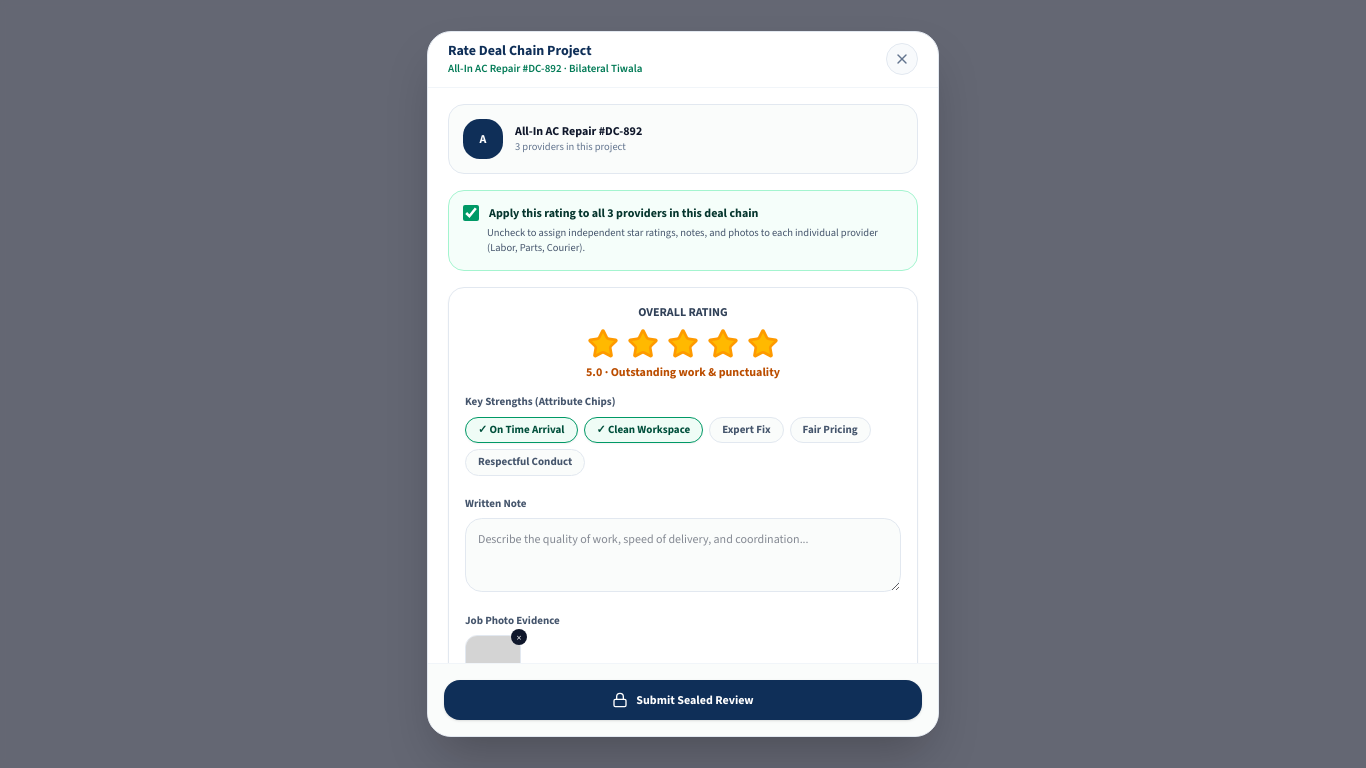
Test: ReviewCeremonyModal Component - Stages & AD-21 Cascading Flow › reveals per-provider custom review cards when cascading toggle is unchecked
The width and height of the screenshot is (1366, 768).
Click the checkbox with test id "cascading-toggle". click: x=471, y=213
box: [463,205,479,221]
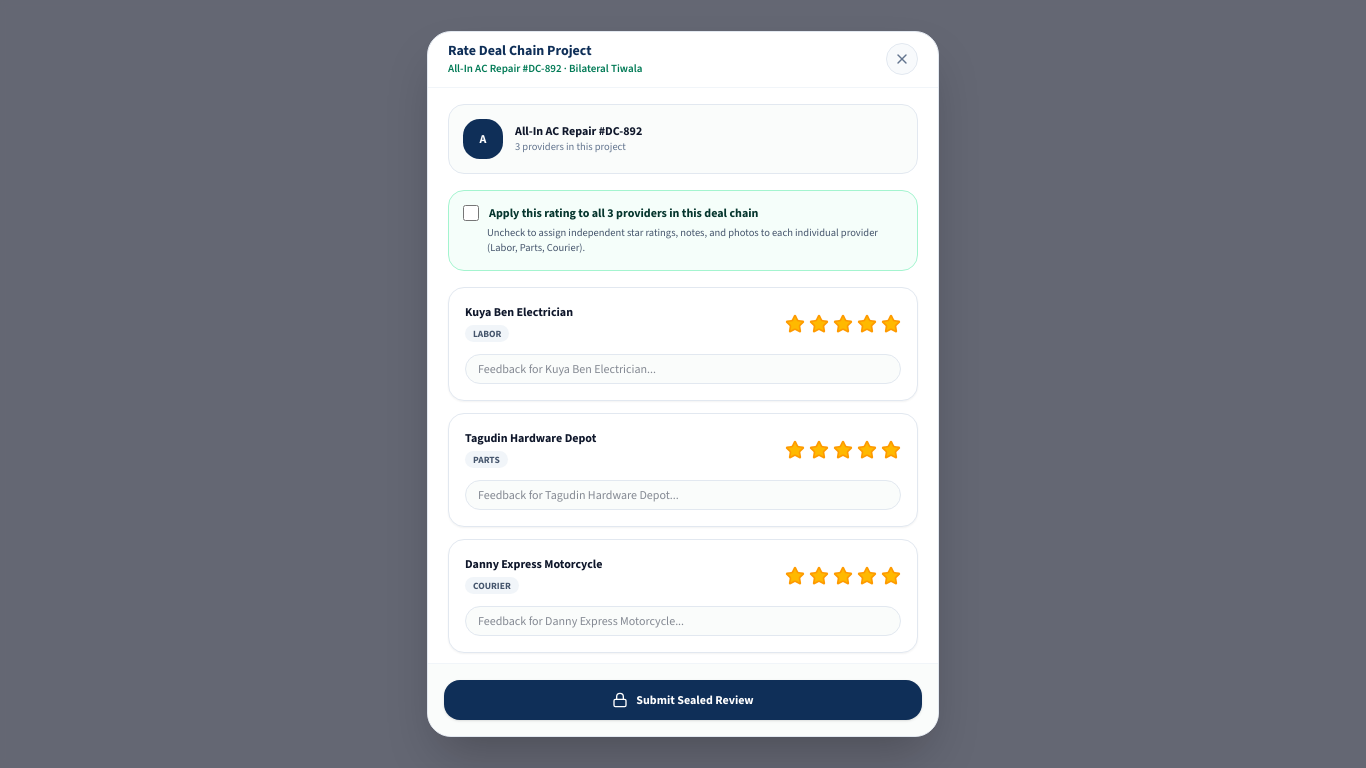
expect the element with test id "granular-review-cards" is shown: met, box [448,287,918,653]
expect the text "Kuya Ben Electrician" is shown: met, box [465,304,573,320]
expect the text "Tagudin Hardware Depot" is shown: met, box [465,430,596,446]
